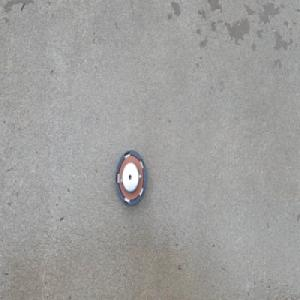FuelCap: (114, 147, 147, 207)
